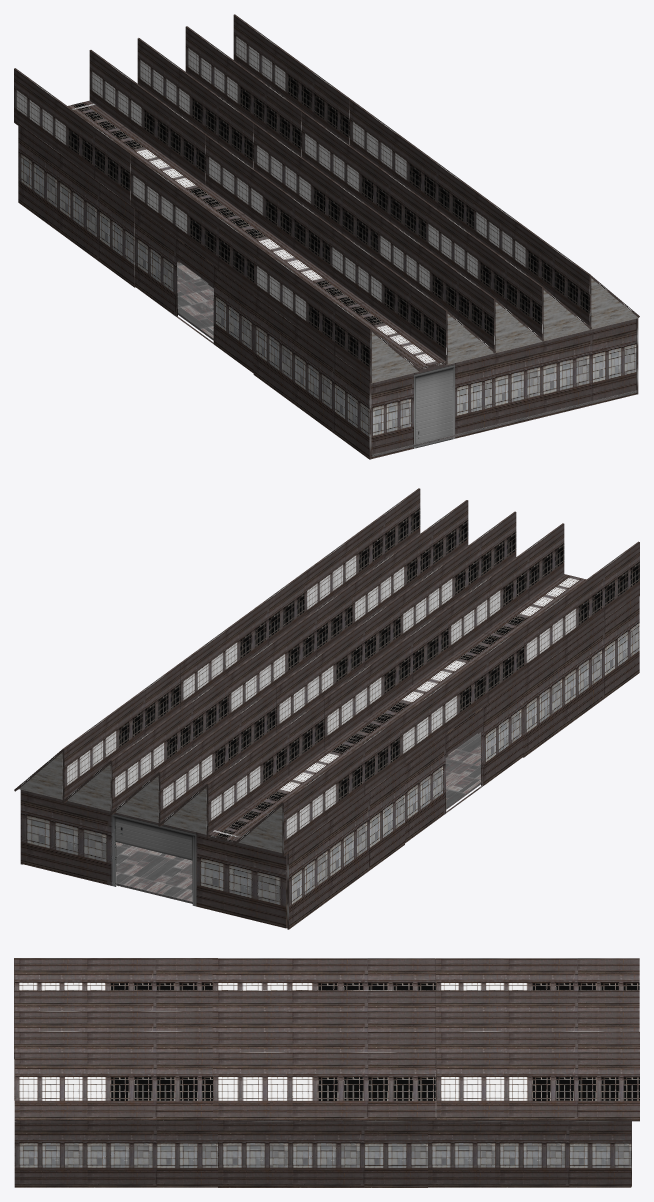
The model's file is Warehouse.glb.
3 views of the same model, one above another, from view 1: azimuth 30°, elevation 25°; view 2: azimuth 150°, elevation 25°; view 3: azimuth 270°, elevation 25° (orthographic). The views are drawn at different scales.
Visible parts, largest first — view 1: Factory002_WindowsIndustrial-frontSolid-OpenWindows_Mat_0, Factory002_WindowsIndustrial-frontSolid_Mat_0, Factory002_WindowsIndustrial-frontDoorclosed_Mat_0, Factory002_WindowsIndustrial-front_Mat_0, Factory002_11 - Default_0, Object001_20 - Default_0; view 2: Factory002_WindowsIndustrial-frontSolid-OpenWindows_Mat_0, Factory002_WindowsIndustrial-frontSolid_Mat_0, Factory002_WindowsIndustrial-frontDoorOpen_Mat_0, Factory002_WindowsIndustrial-front_Mat_0, Factory002_11 - Default_0, Object001_20 - Default_0; view 3: Factory002_WindowsIndustrial-frontSolid-OpenWindows_Mat_0, Factory002_WindowsIndustrial-frontSolid_Mat_0.
Boxes of the visible parts, x1=… form: Factory002_WindowsIndustrial-frontSolid-OpenWindows_Mat_0: x1=14, y1=14, x2=639, y2=383; Factory002_WindowsIndustrial-frontSolid_Mat_0: x1=18, y1=123, x2=638, y2=459; Factory002_WindowsIndustrial-frontDoorclosed_Mat_0: x1=371, y1=354, x2=491, y2=458; Factory002_WindowsIndustrial-front_Mat_0: x1=135, y1=207, x2=253, y2=373; Factory002_11 - Default_0: x1=370, y1=278, x2=638, y2=383; Object001_20 - Default_0: x1=177, y1=262, x2=637, y2=456; Factory002_WindowsIndustrial-frontSolid-OpenWindows_Mat_0: x1=14, y1=488, x2=639, y2=856; Factory002_WindowsIndustrial-frontSolid_Mat_0: x1=21, y1=594, x2=639, y2=929; Factory002_WindowsIndustrial-frontDoorOpen_Mat_0: x1=20, y1=790, x2=287, y2=928; Factory002_WindowsIndustrial-front_Mat_0: x1=404, y1=677, x2=523, y2=843; Factory002_11 - Default_0: x1=19, y1=752, x2=282, y2=852; Object001_20 - Default_0: x1=116, y1=732, x2=481, y2=903; Factory002_WindowsIndustrial-frontSolid-OpenWindows_Mat_0: x1=14, y1=958, x2=639, y2=1121; Factory002_WindowsIndustrial-frontSolid_Mat_0: x1=14, y1=1059, x2=631, y2=1187.
Size of the model in its own units: 11.16 by 5.16 by 25.5.
7 materials, 7 textured.
